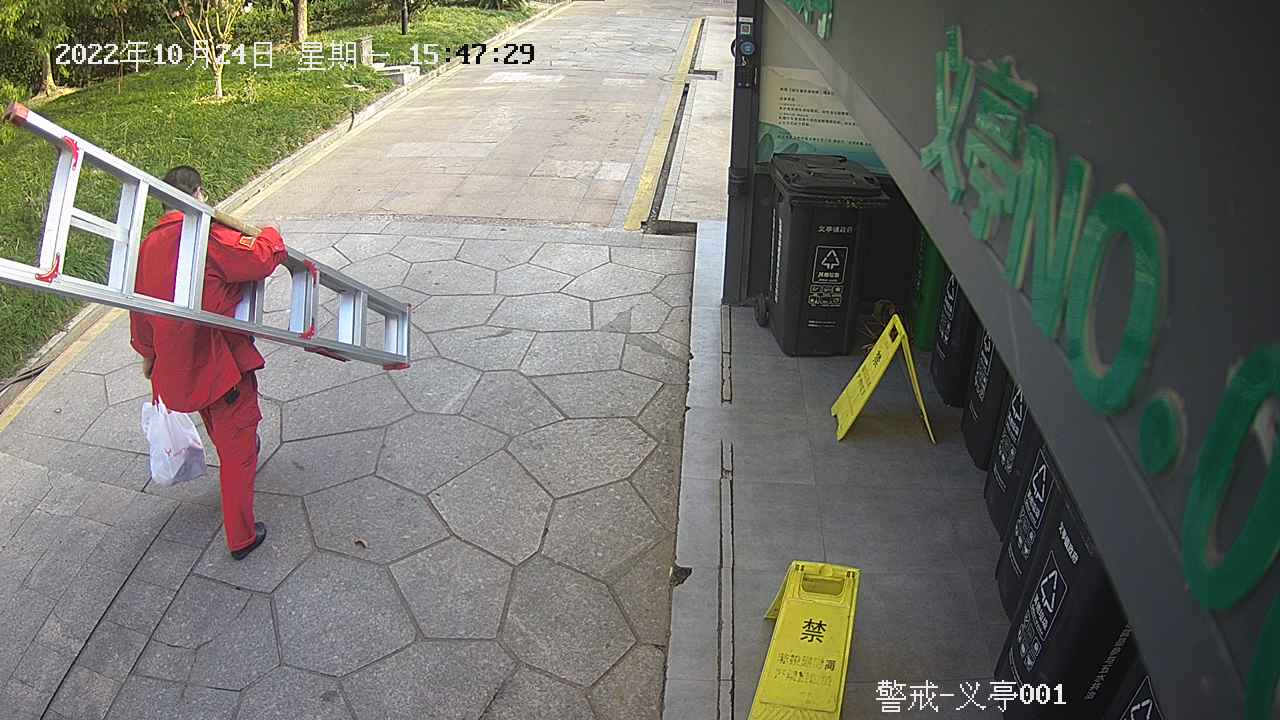garbage-bag: (136, 390, 213, 492)
worker: (116, 161, 296, 568)
